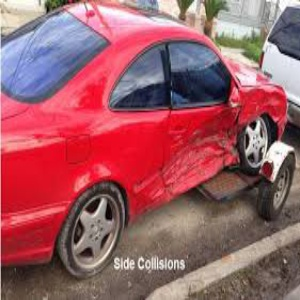door: (125, 123, 239, 194)
